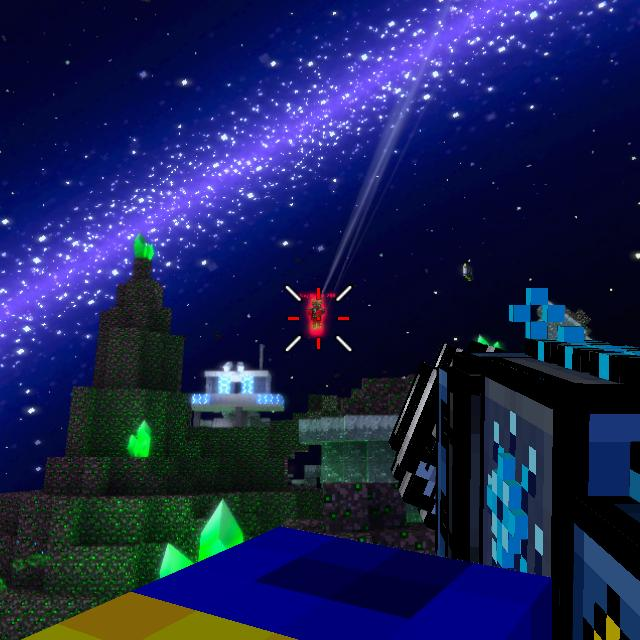Enemy: (307, 300, 325, 329)
